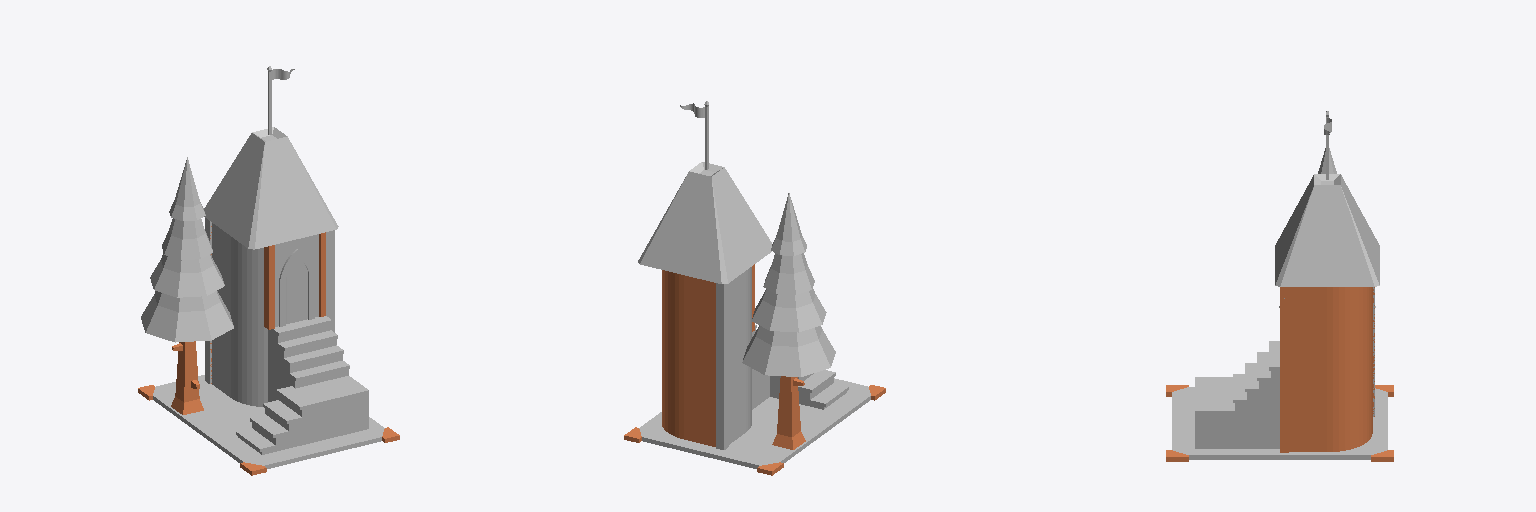
The model's file is turn si copac.obj.
3 renders of one model, left to right at view 1: azimuth 30°, elevation 25°; view 2: azimuth 150°, elevation 25°; view 3: azimuth 270°, elevation 25°, orthographic.
Size of the model in its own units: 2.11 by 3.79 by 2.4.